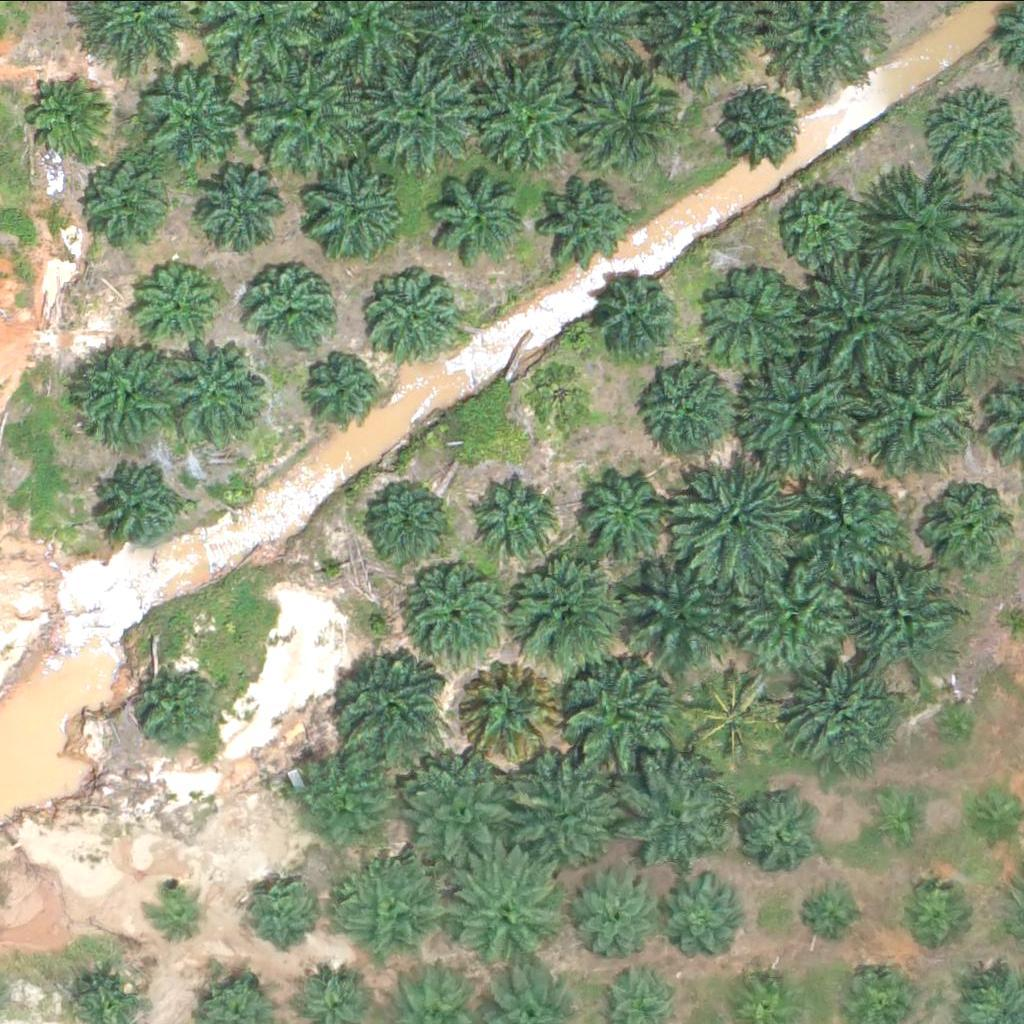Kelapa_Sawit: (439, 847, 565, 972), (244, 48, 370, 173), (324, 644, 450, 769), (558, 650, 684, 775), (505, 747, 631, 872), (611, 750, 737, 875), (500, 548, 626, 673), (731, 552, 857, 677), (778, 645, 904, 770), (674, 464, 800, 589), (793, 455, 919, 580), (738, 359, 864, 484), (853, 357, 979, 482), (796, 258, 922, 383), (853, 162, 979, 287), (837, 559, 963, 684), (404, 755, 529, 880), (616, 549, 741, 674), (672, 661, 786, 774), (453, 654, 566, 767), (706, 264, 819, 377), (287, 743, 401, 855), (403, 554, 517, 666), (339, 853, 452, 965), (568, 63, 681, 175), (461, 59, 574, 171), (360, 59, 473, 171), (564, 858, 665, 958), (142, 63, 243, 163), (423, 167, 524, 267), (530, 168, 631, 268), (166, 340, 267, 440), (73, 344, 174, 444), (568, 465, 669, 565), (643, 362, 744, 462), (920, 476, 1021, 576), (304, 162, 404, 262), (922, 85, 1022, 185), (781, 184, 869, 272), (658, 872, 746, 960), (83, 153, 171, 241), (138, 260, 226, 348), (251, 263, 339, 351), (374, 271, 462, 359), (98, 461, 186, 549), (585, 273, 674, 360), (139, 663, 227, 750), (298, 344, 386, 431), (26, 74, 114, 161), (202, 160, 290, 247), (738, 793, 826, 880), (468, 470, 556, 557), (363, 475, 451, 562), (238, 867, 314, 942), (521, 356, 597, 431), (900, 878, 975, 953), (724, 90, 799, 165), (873, 787, 936, 850), (147, 875, 210, 937), (796, 881, 859, 943), (929, 701, 979, 751)
